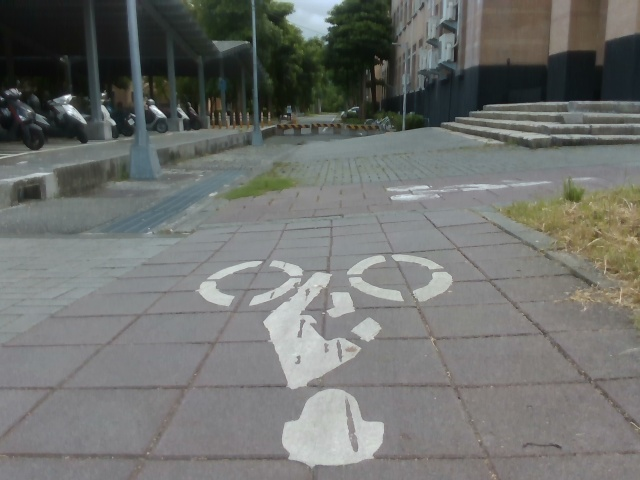grass: (112, 0, 425, 131), (479, 178, 639, 294)
road: (0, 129, 639, 479), (43, 138, 105, 164)
sidewalk: (0, 146, 60, 191)
